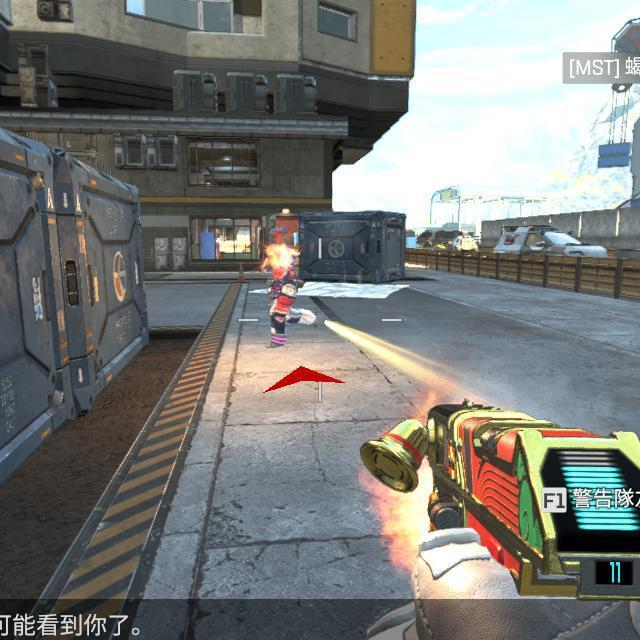avatar: (260, 227, 304, 349)
